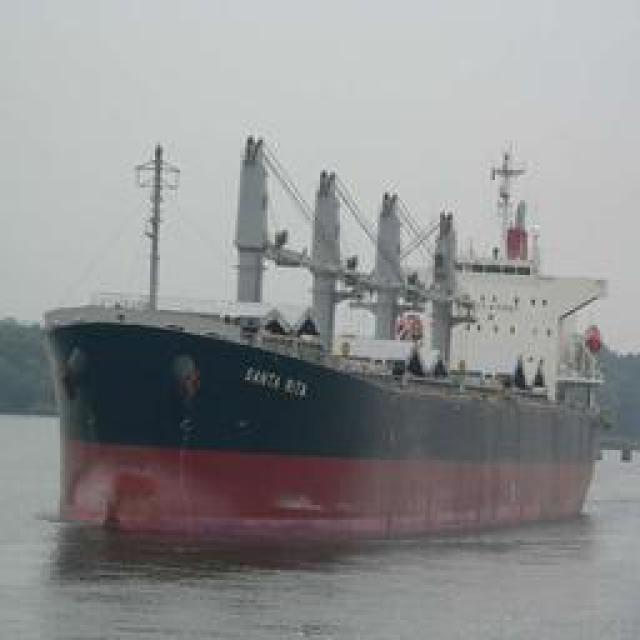Ship: (45, 303, 620, 558)
